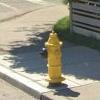a fire hydrant: (45, 32, 64, 89)
